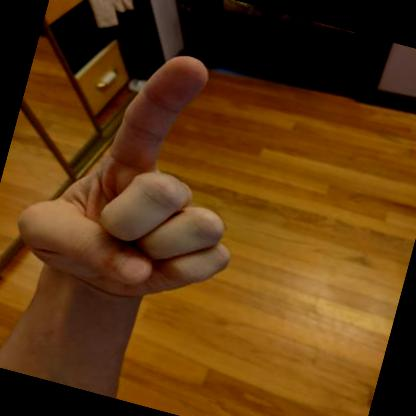D: (16, 55, 230, 307)
